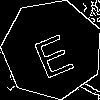E: (27, 24, 77, 80)
